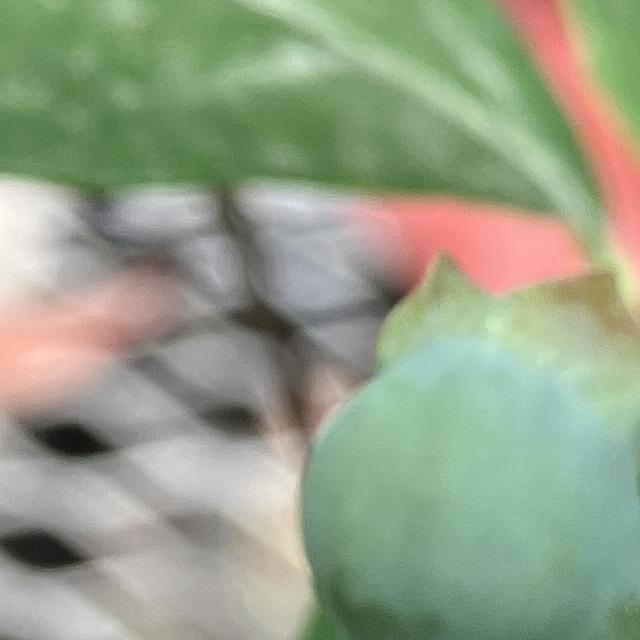Blueberries: (266, 229, 640, 640)
